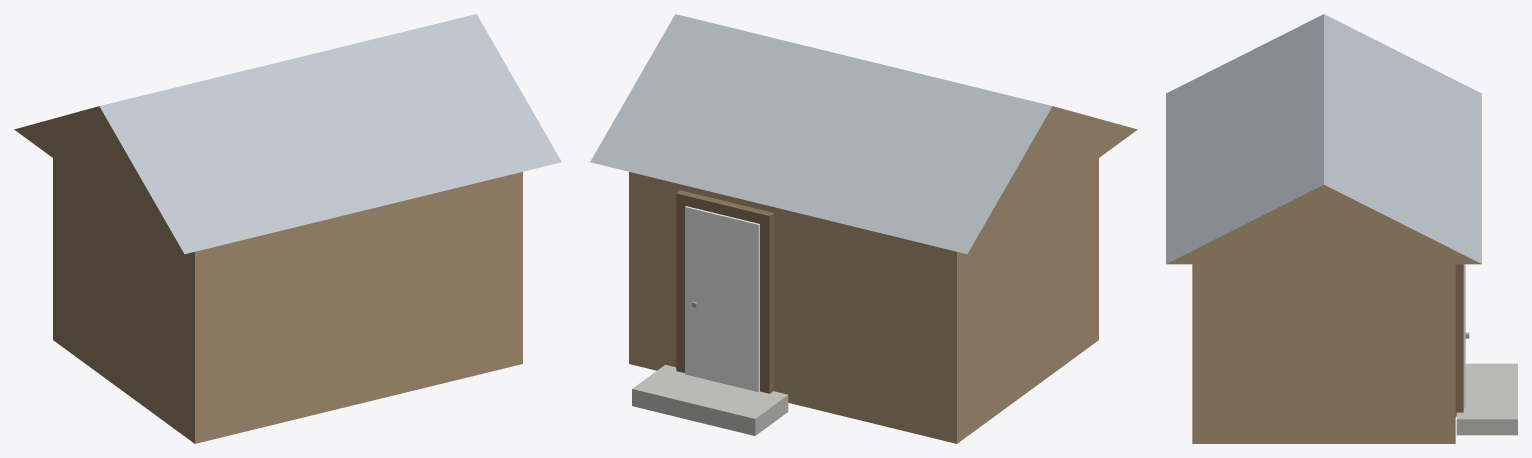
Rendered from shed.glb.
3 views of the same model, side by side, from view 1: azimuth 30°, elevation 25°; view 2: azimuth 150°, elevation 25°; view 3: azimuth 270°, elevation 25° (orthographic). The views are drawn at different scales.
Parts seen in each view (by area): view 1: shed; view 2: shed; view 3: shed.
Part boxes in pixels (x1,y1,x2,y2): shed: (14,14,561,443); shed: (590,14,1137,443); shed: (1166,14,1517,443).
Size of what is drawn, in the model's own units: 4.6 by 3.5 by 4.01.
